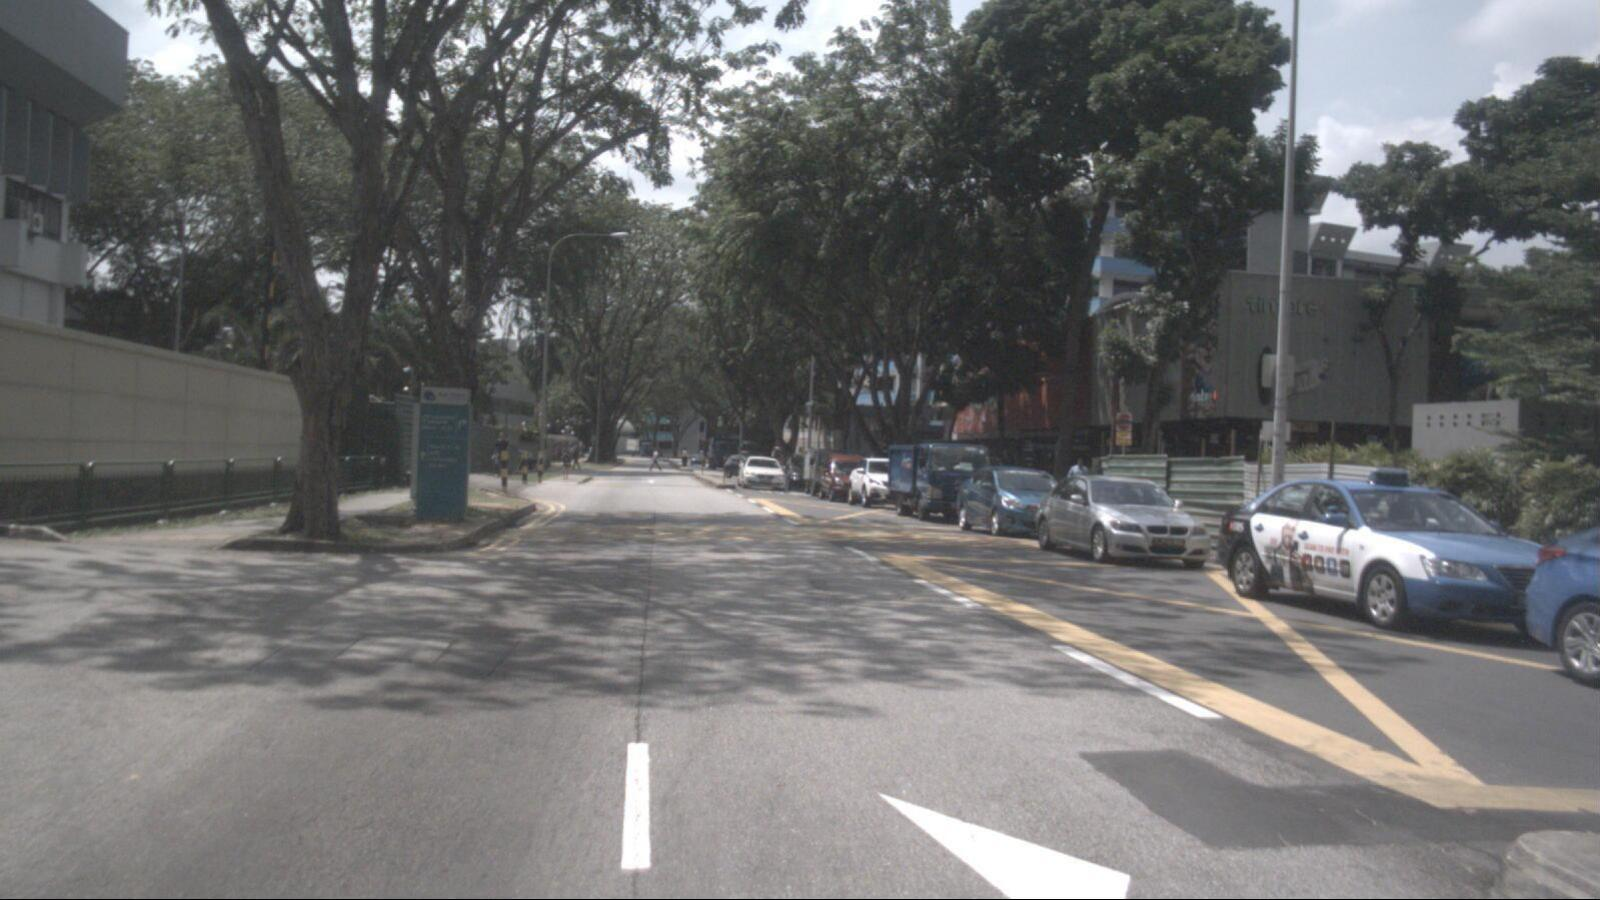human.pedestrian.adult-pedestrian.moving: (1066, 458, 1089, 519), (491, 430, 509, 479), (650, 448, 661, 471), (570, 448, 580, 471)
human.pedestrian.adult-pedestrian.standing: (680, 448, 688, 467)
human.pedestrian.construction_worker-pedestrian.moving: (559, 448, 571, 481)
